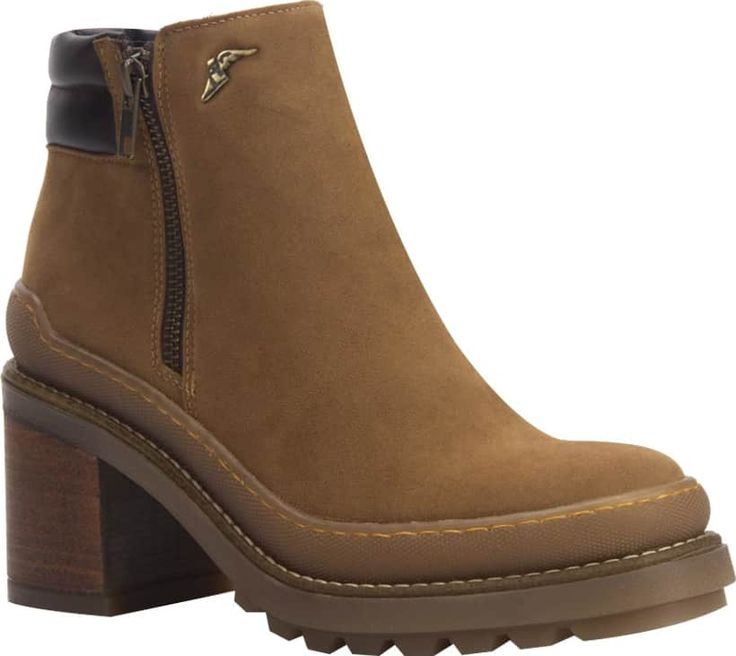gamuza: (18, 2, 711, 588)
